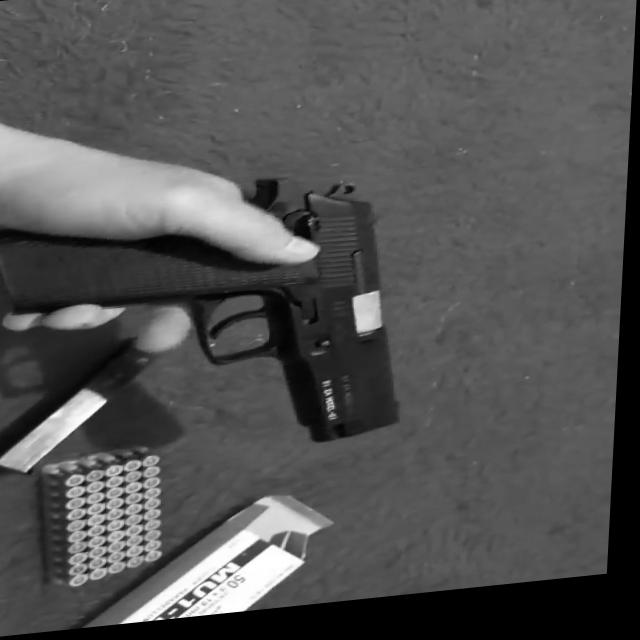handgun: (256, 183, 433, 465)
